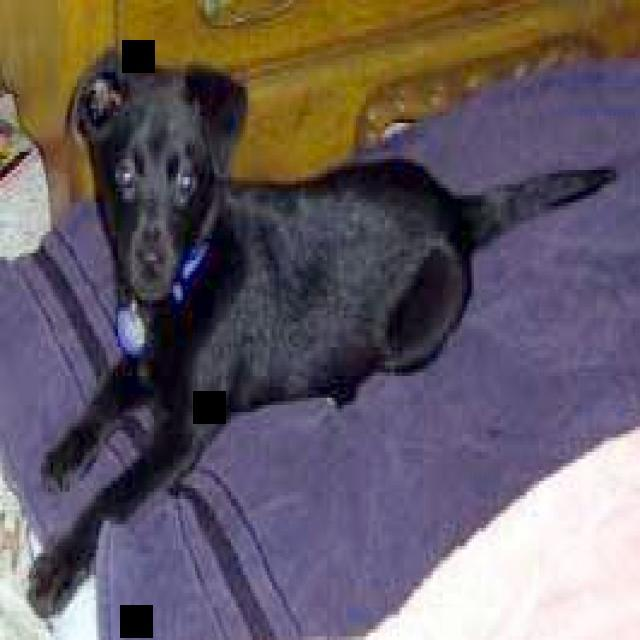adult_dog: (23, 52, 622, 619)
